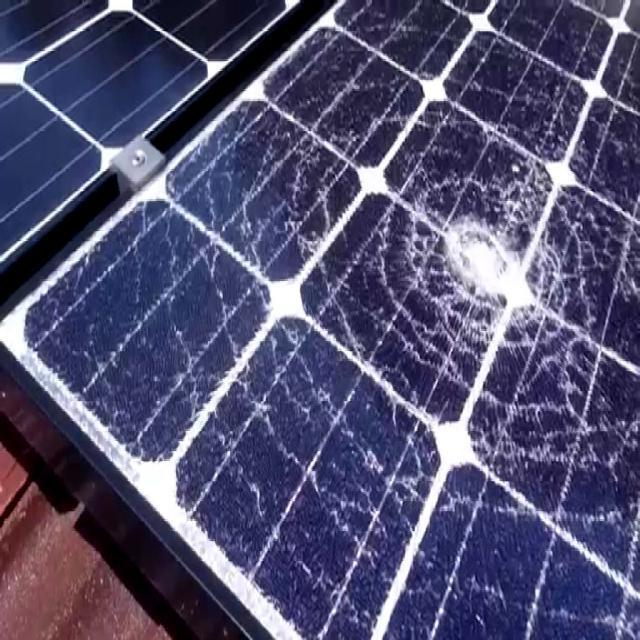cracked: (19, 2, 636, 634)
